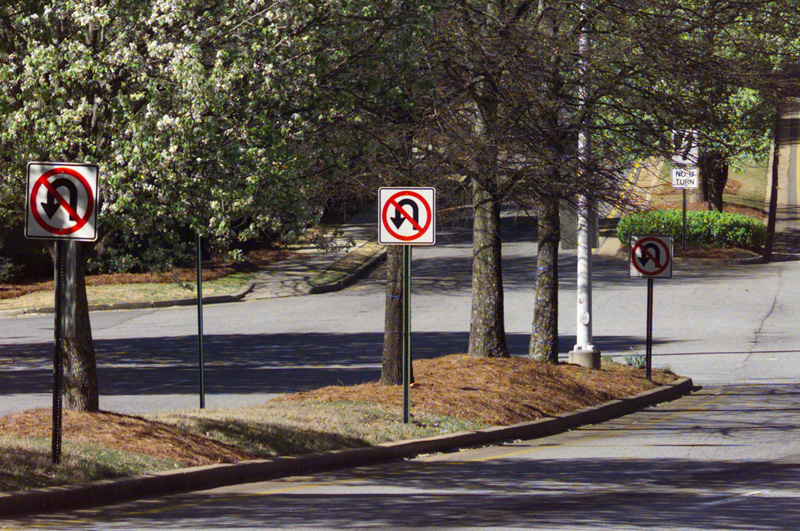No_u_turn: (30, 167, 94, 236), (382, 190, 431, 240), (631, 238, 670, 275)
